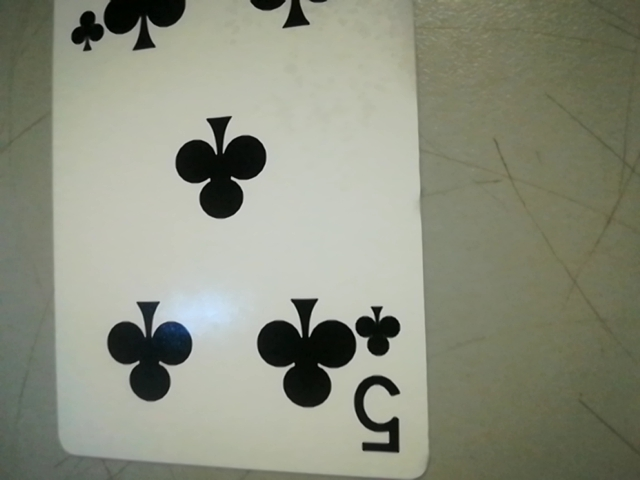mh 5: (354, 303, 405, 451)
